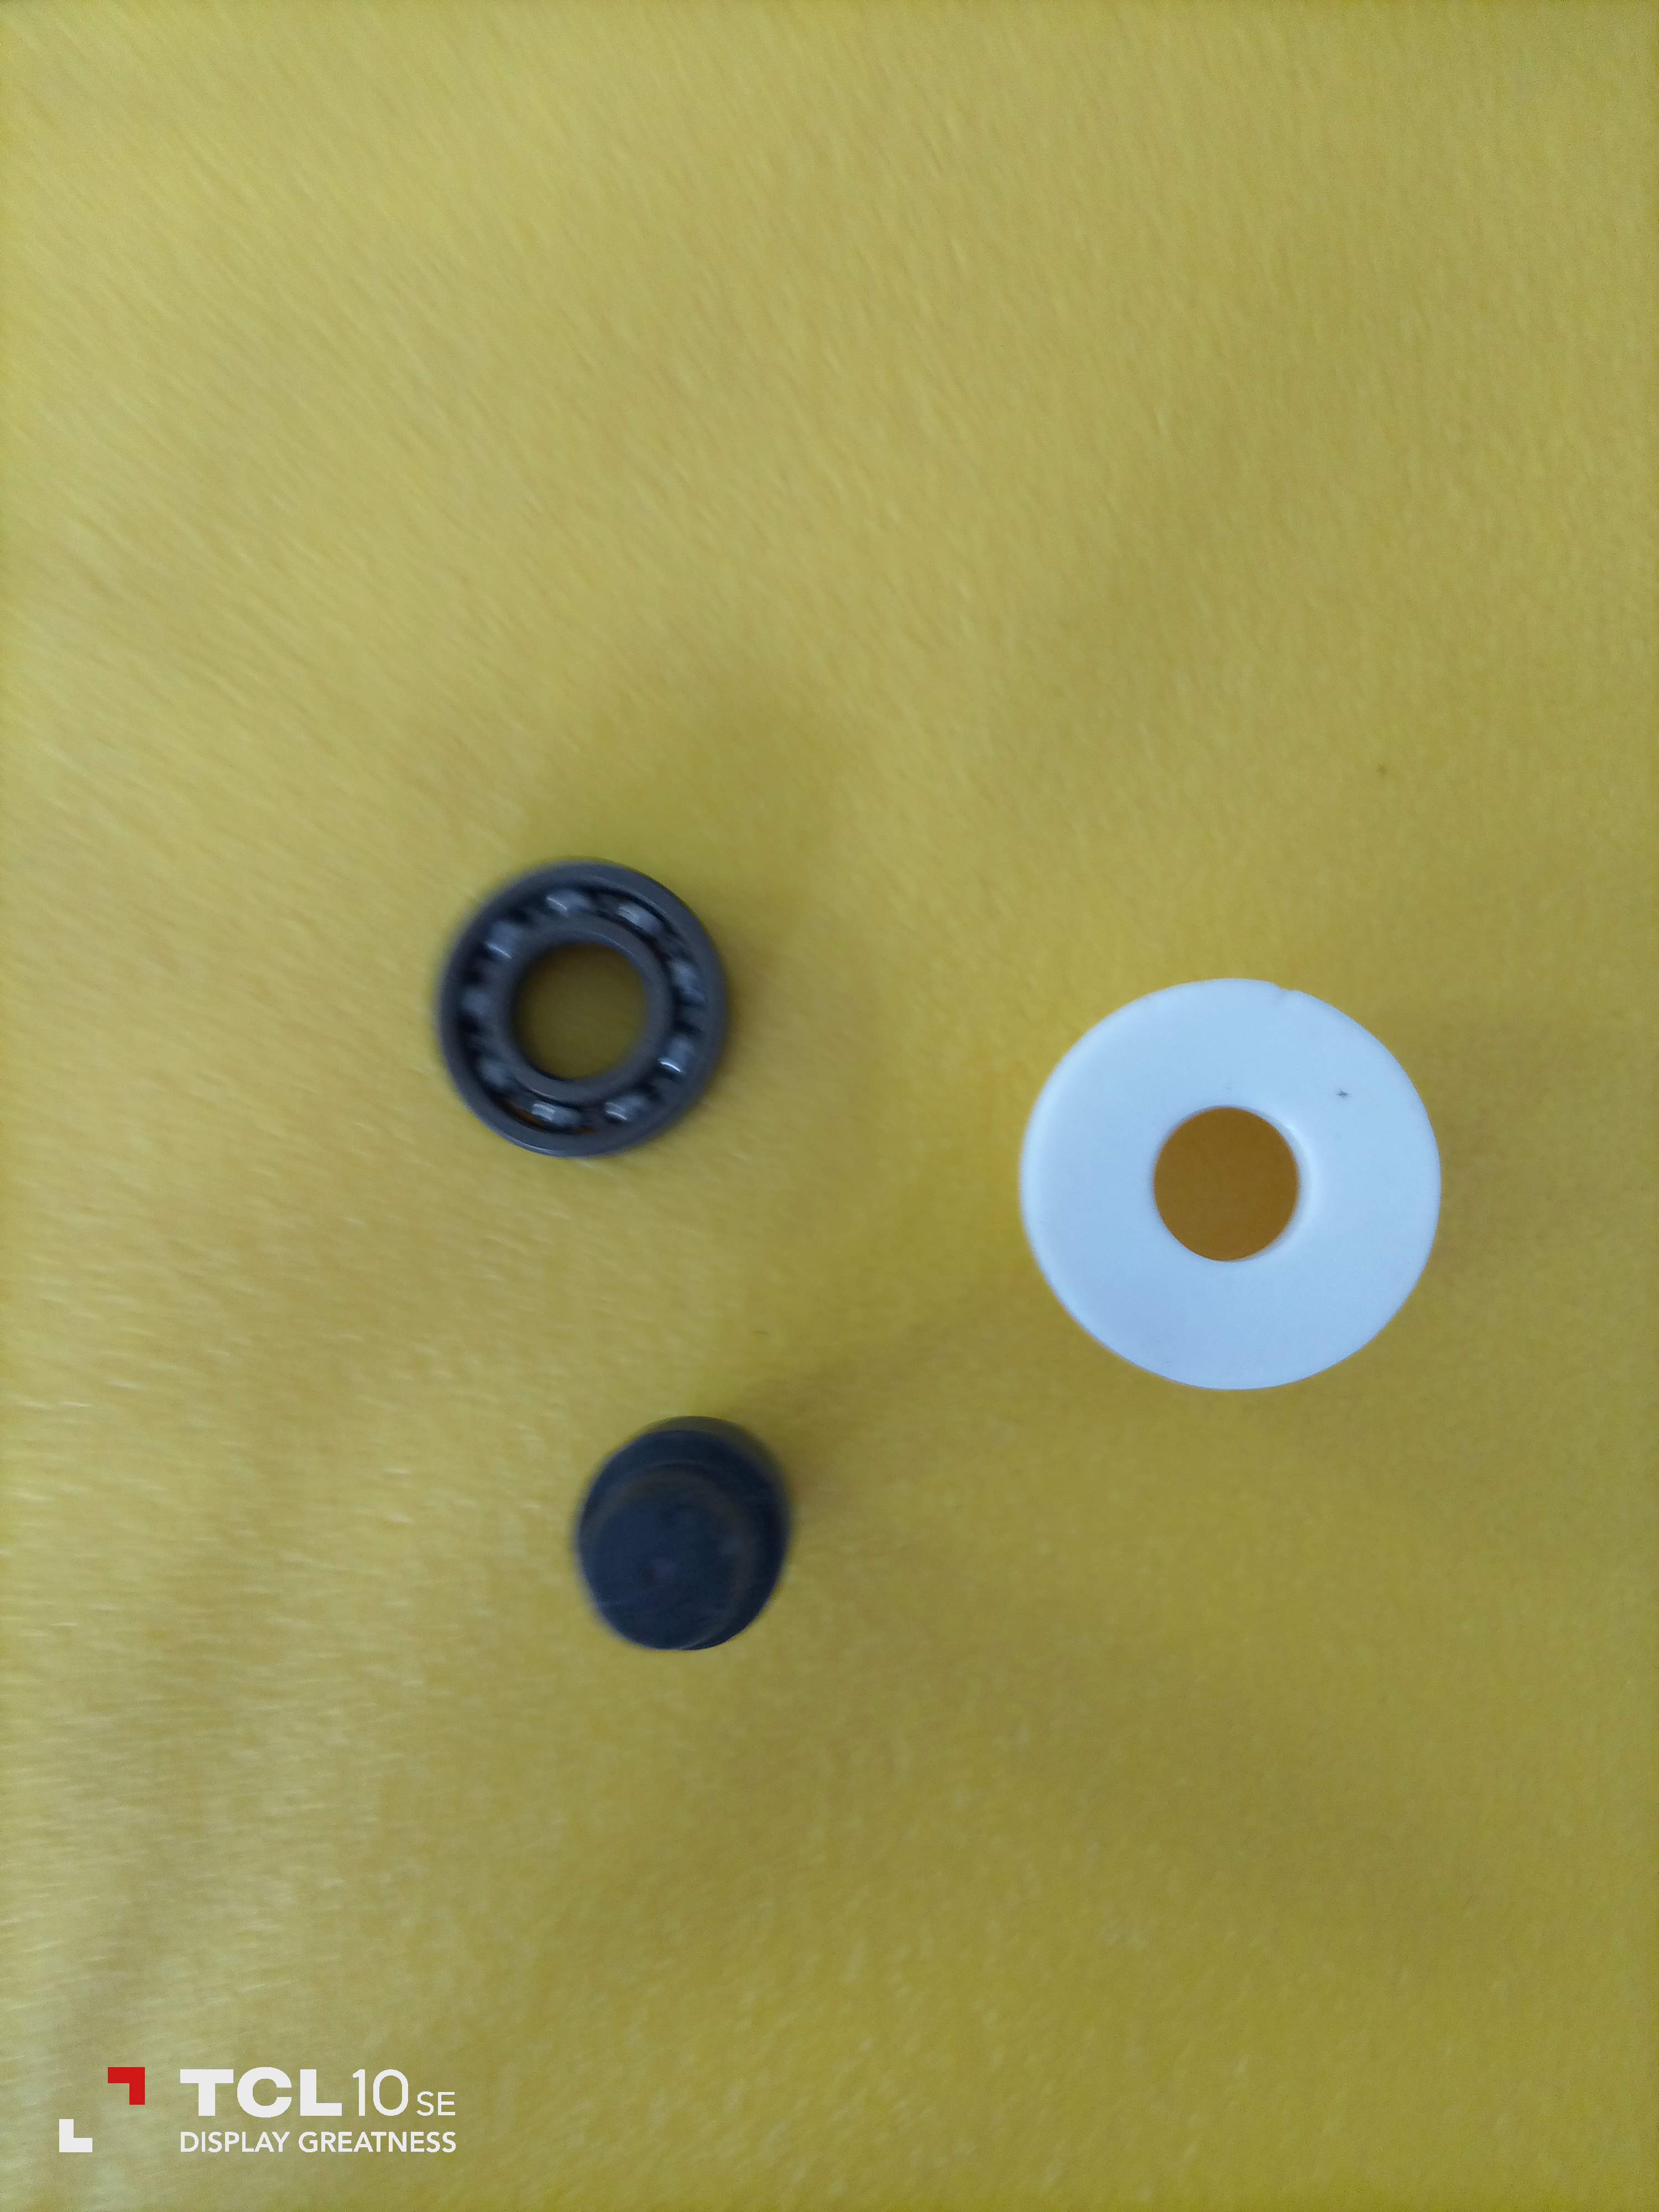Ardatza: (568, 1407, 800, 1648)
Roda: (432, 841, 734, 1169)
Tapa: (1009, 974, 1448, 1397)
